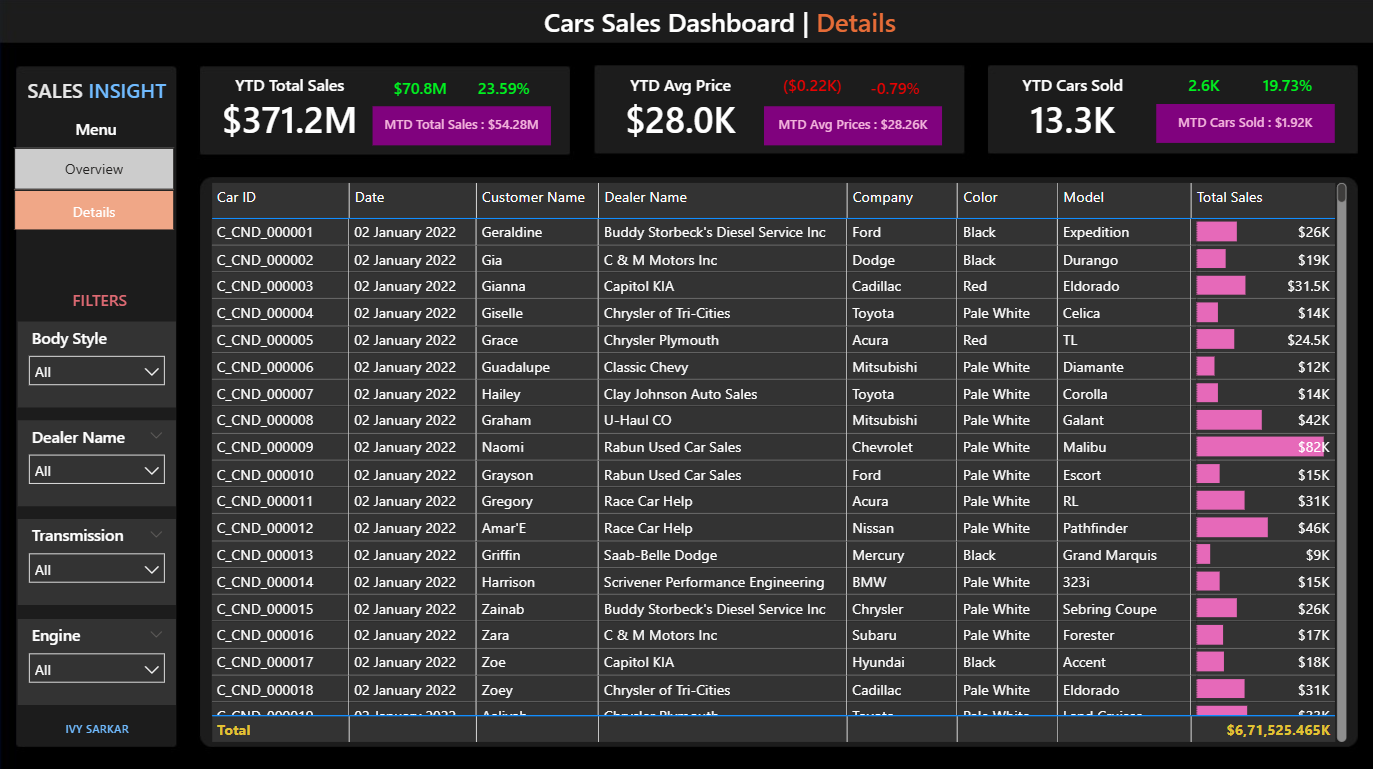

The dashboard page shown, as its layout file describes it:
{"tool":"powerbi","page":{"name":"Details","canvas":[1280,720],"ordinal":1},"visuals":[{"type":"card","title":"YTD Total Sales","fields":{"Values":["car_data.YTD Total Sales"]},"box":[191.8,70,156.8,68.8],"z":0},{"type":"card","title":"YTD ToTal Sales","fields":{"Values":["car_data.Sales Differnce"]},"box":[347.6,70.3,88.4,30.3],"z":1000},{"type":"card","title":"YTD ToTal Sales","fields":{"Values":["car_data.YOY Sales Growth"]},"box":[425.1,70.3,88.4,30.3],"z":2000},{"type":"card","fields":{"Values":["car_data.MTD KPI"]},"box":[347.6,100.5,165.9,36.3],"z":3000},{"type":"card","title":"YTD Avg Price","fields":{"Values":["car_data.YTD Avg Price"]},"box":[555.9,70.3,156.2,69],"z":4000},{"type":"card","title":"YTD ToTal Sales","fields":{"Values":["car_data.Avg Price Diff"]},"box":[712.4,67.9,87.9,30.1],"z":5000},{"type":"card","title":"YTD ToTal Sales","fields":{"Values":["car_data.YOY Avg Price Growth"]},"box":[789.7,70.3,88.4,30.3],"z":6000},{"type":"card","fields":{"Values":["car_data.MTD Avg Price KPI"]},"box":[712.2,100.5,165.9,36.3],"z":7000},{"type":"card","title":"YTD Cars Sold","fields":{"Values":["car_data.YTD Cars Sold"]},"box":[920.6,70.1,155.8,69],"z":8000},{"type":"card","title":"YTD ToTal Sales","fields":{"Values":["car_data.Cars Sold Diff"]},"box":[1076.8,67.8,88.4,30.3],"z":9000},{"type":"card","title":"YTD ToTal Sales","fields":{"Values":["car_data.YOY Cars Sold Growth"]},"box":[1154.3,67.8,88.4,30.3],"z":10000},{"type":"card","fields":{"Values":["car_data.MTD Cars Sold KPI"]},"box":[1076.8,98.1,165.9,36.3],"z":11000},{"type":"textbox","box":[338.4,0,664.6,43.4],"z":12000},{"type":"slicer","fields":{"Values":["car_data.Body Style"]},"box":[17.4,299.9,147.2,79.6],"z":13000},{"type":"slicer","fields":{"Values":["car_data.Dealer_Name"]},"box":[17.4,392,147.2,79.6],"z":14000},{"type":"slicer","fields":{"Values":["car_data.Transmission"]},"box":[17.4,484.1,147.2,79.6],"z":15000},{"type":"slicer","fields":{"Values":["car_data.Engine"]},"box":[17.4,576.2,147.2,79.6],"z":16000},{"type":"tableEx","fields":{"Values":["car_data.Car_id","car_data.Date","car_data.Customer Name","car_data.Dealer_Name","car_data.Company","car_data.Color","car_data.Model","Sum(car_data.Price ($))"]},"box":[191.8,166.5,1066.5,529.6],"z":17000},{"type":"textbox","box":[16.9,67.6,147.2,37.4],"z":18000},{"type":"textbox","box":[6.5,265.4,173.7,30.2],"z":19000},{"type":"textbox","box":[3.6,106.2,173.7,30.2],"z":20000},{"type":"pageNavigator","box":[14.5,138.7,149.6,76],"z":21000},{"type":"textbox","box":[17.4,664,147.7,37.2],"z":22000}]}

Visuals, with their boxes in screenshot pixels (x1, y1, x2, y2), scaled from the page's 1280x720 canvas onto the 1373x769 screenshot:
"YTD Total Sales" card: detection(206, 75, 374, 148)
"YTD ToTal Sales" card: detection(373, 75, 468, 107)
"YTD ToTal Sales" card: detection(456, 75, 551, 107)
card - car_data.MTD KPI: detection(373, 107, 551, 146)
"YTD Avg Price" card: detection(596, 75, 764, 149)
"YTD ToTal Sales" card: detection(764, 73, 858, 105)
"YTD ToTal Sales" card: detection(847, 75, 942, 107)
card - car_data.MTD Avg Price KPI: detection(764, 107, 942, 146)
"YTD Cars Sold" card: detection(987, 75, 1155, 149)
"YTD ToTal Sales" card: detection(1155, 72, 1250, 105)
"YTD ToTal Sales" card: detection(1238, 72, 1333, 105)
card - car_data.MTD Cars Sold KPI: detection(1155, 105, 1333, 144)
textbox: detection(363, 0, 1076, 46)
slicer - car_data.Body Style: detection(19, 320, 177, 405)
slicer - car_data.Dealer_Name: detection(19, 419, 177, 504)
slicer - car_data.Transmission: detection(19, 517, 177, 602)
slicer - car_data.Engine: detection(19, 615, 177, 700)
tableEx - car_data.Car_id x car_data.Date: detection(206, 178, 1350, 743)
textbox: detection(18, 72, 176, 112)
textbox: detection(7, 283, 193, 316)
textbox: detection(4, 113, 190, 146)
pageNavigator: detection(16, 148, 176, 229)
textbox: detection(19, 709, 177, 749)
